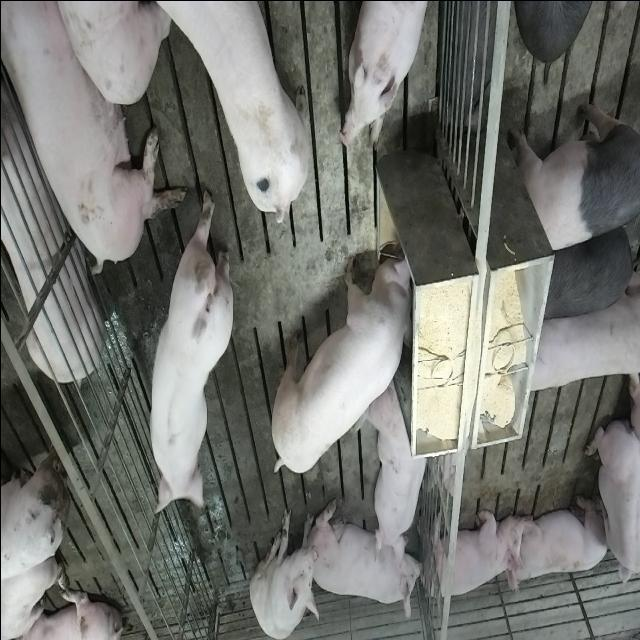Feeding: (273, 244, 421, 476)
Lateral_lying: (3, 0, 185, 272), (0, 53, 103, 383)
Sitting: (249, 503, 320, 638)
Standing: (133, 0, 317, 221), (144, 185, 233, 520), (513, 96, 639, 256), (522, 280, 638, 396), (534, 220, 636, 322)
Sternal_lying: (340, 0, 432, 149), (314, 505, 426, 617), (366, 377, 430, 561), (584, 411, 638, 598), (510, 492, 610, 588), (426, 505, 522, 603)
